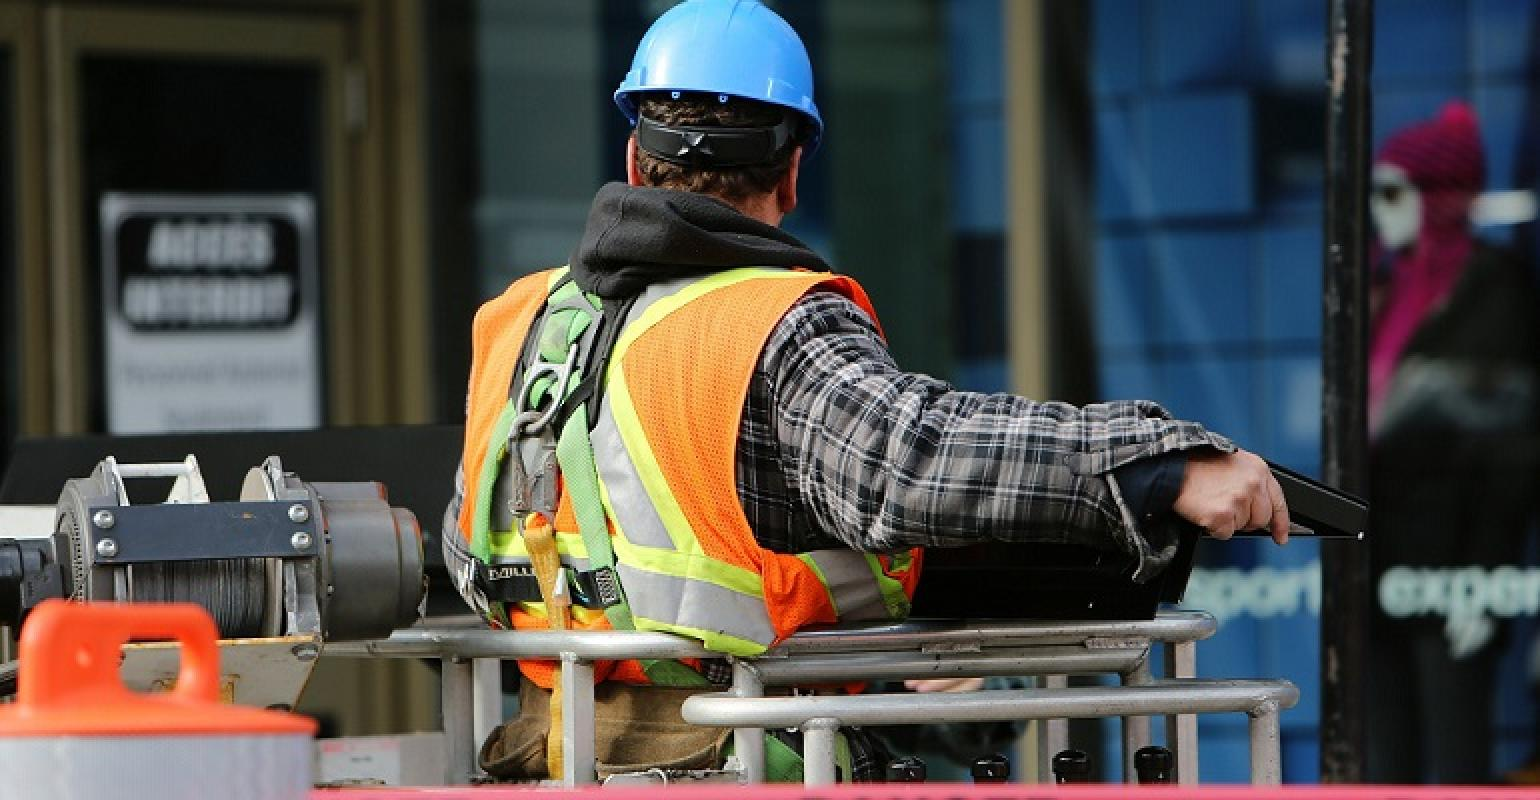hard hat: (614, 1, 825, 143)
high-vis: (463, 258, 928, 708)
